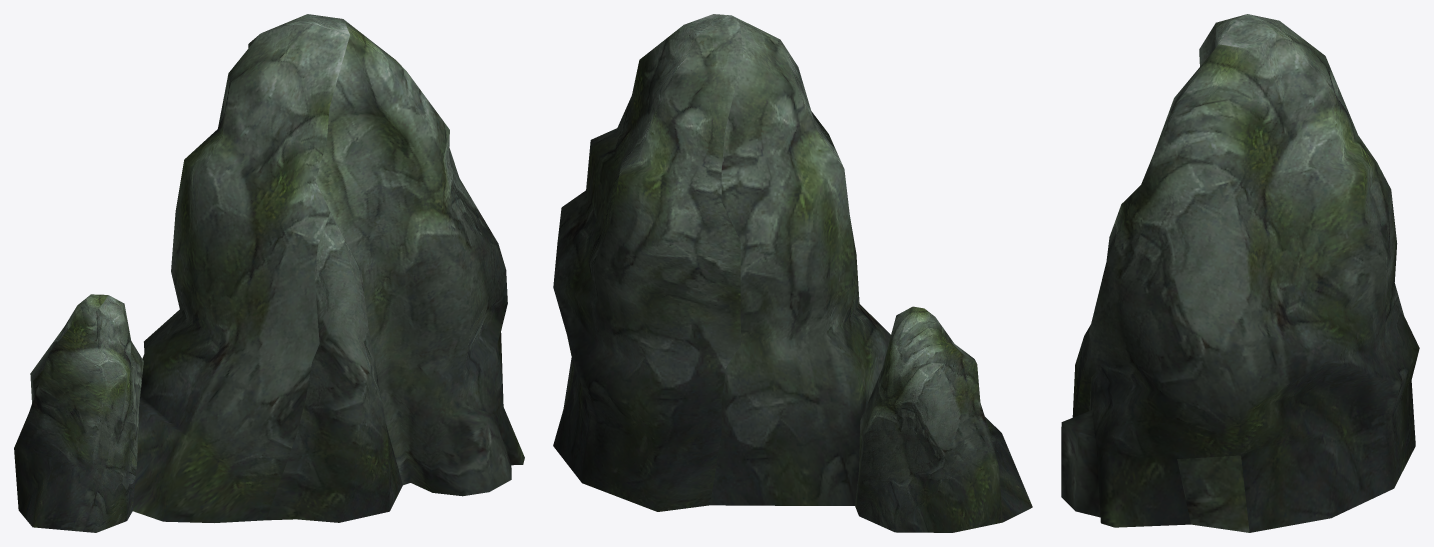
Rendered from cj_luoyang_shitou02_55_38_4536out.fbx.
The picture shows the model from 3 angles, left to right: view 1: azimuth 30°, elevation 25°; view 2: azimuth 150°, elevation 25°; view 3: azimuth 270°, elevation 25°; orthographic projection.
Parts seen in each view (by area): view 1: cj_luoyang_shitou02; view 2: cj_luoyang_shitou02; view 3: cj_luoyang_shitou02.
Boxes of the visible parts, left/top/right/bottom form: cj_luoyang_shitou02: left=14, top=14, right=524, bottom=532; cj_luoyang_shitou02: left=553, top=14, right=1032, bottom=532; cj_luoyang_shitou02: left=1061, top=14, right=1419, bottom=532.
Bounding box in the file's own units: 8.3 × 7.24 × 5.44.
